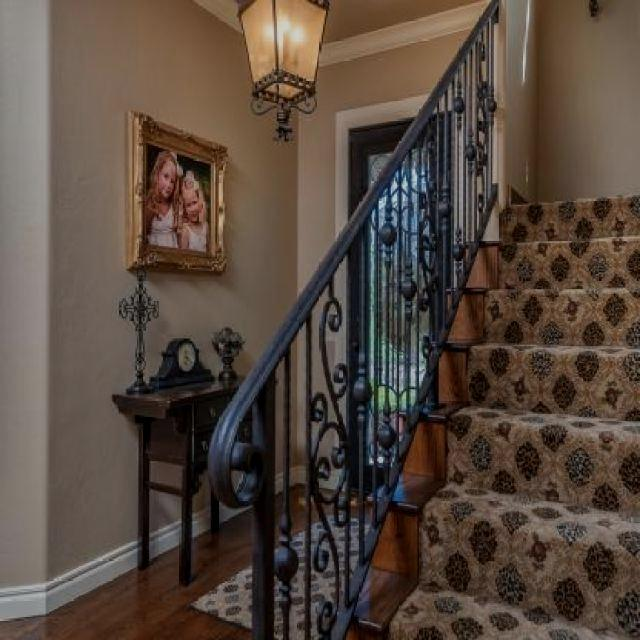stair: (332, 194, 640, 640)
